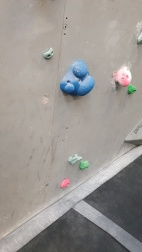Jug: (113, 64, 133, 87)
Sloper: (59, 59, 95, 98)
